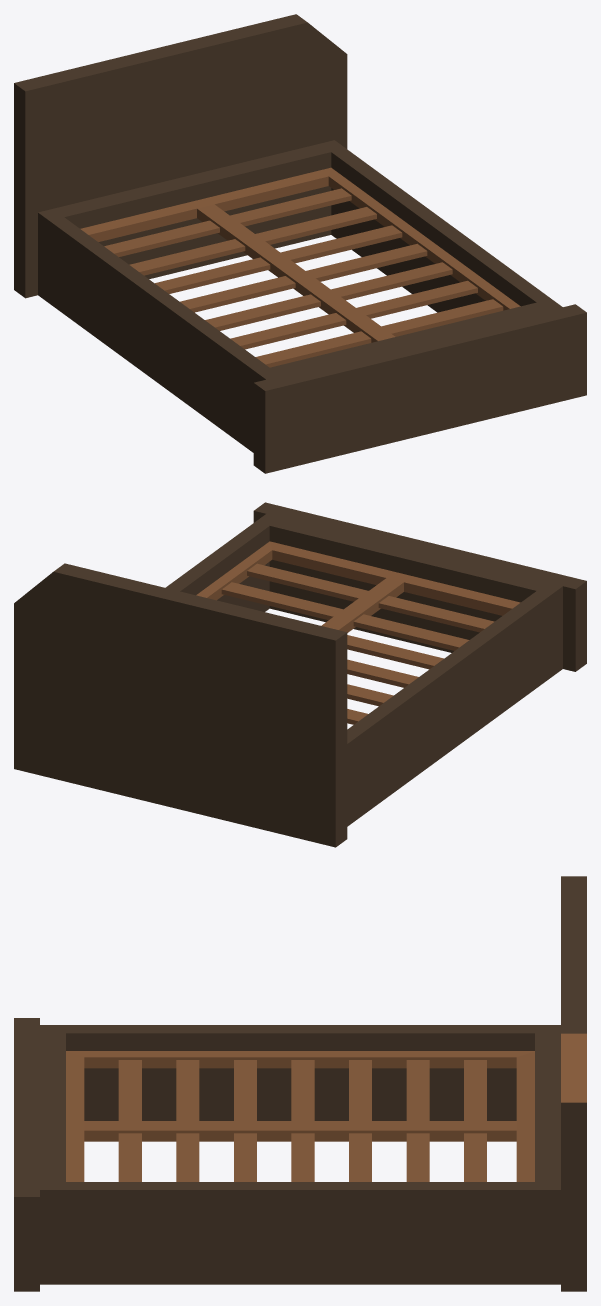
Rendered from apocalypse_bed-large-frame.fbx.
The picture shows the model from 3 angles, top to bottom: view 1: azimuth 30°, elevation 25°; view 2: azimuth 150°, elevation 25°; view 3: azimuth 270°, elevation 25°; orthographic projection. The views are drawn at different scales.
Parts seen in each view (by area): view 1: apocalypse_bed_large_frame; view 2: apocalypse_bed_large_frame; view 3: apocalypse_bed_large_frame.
Part boxes in pixels (bbox=[...]): apocalypse_bed_large_frame: bbox=[14, 14, 586, 473]; apocalypse_bed_large_frame: bbox=[14, 502, 586, 847]; apocalypse_bed_large_frame: bbox=[14, 876, 586, 1291].
Size of the model in its own units: 148 by 90.91 by 200.
